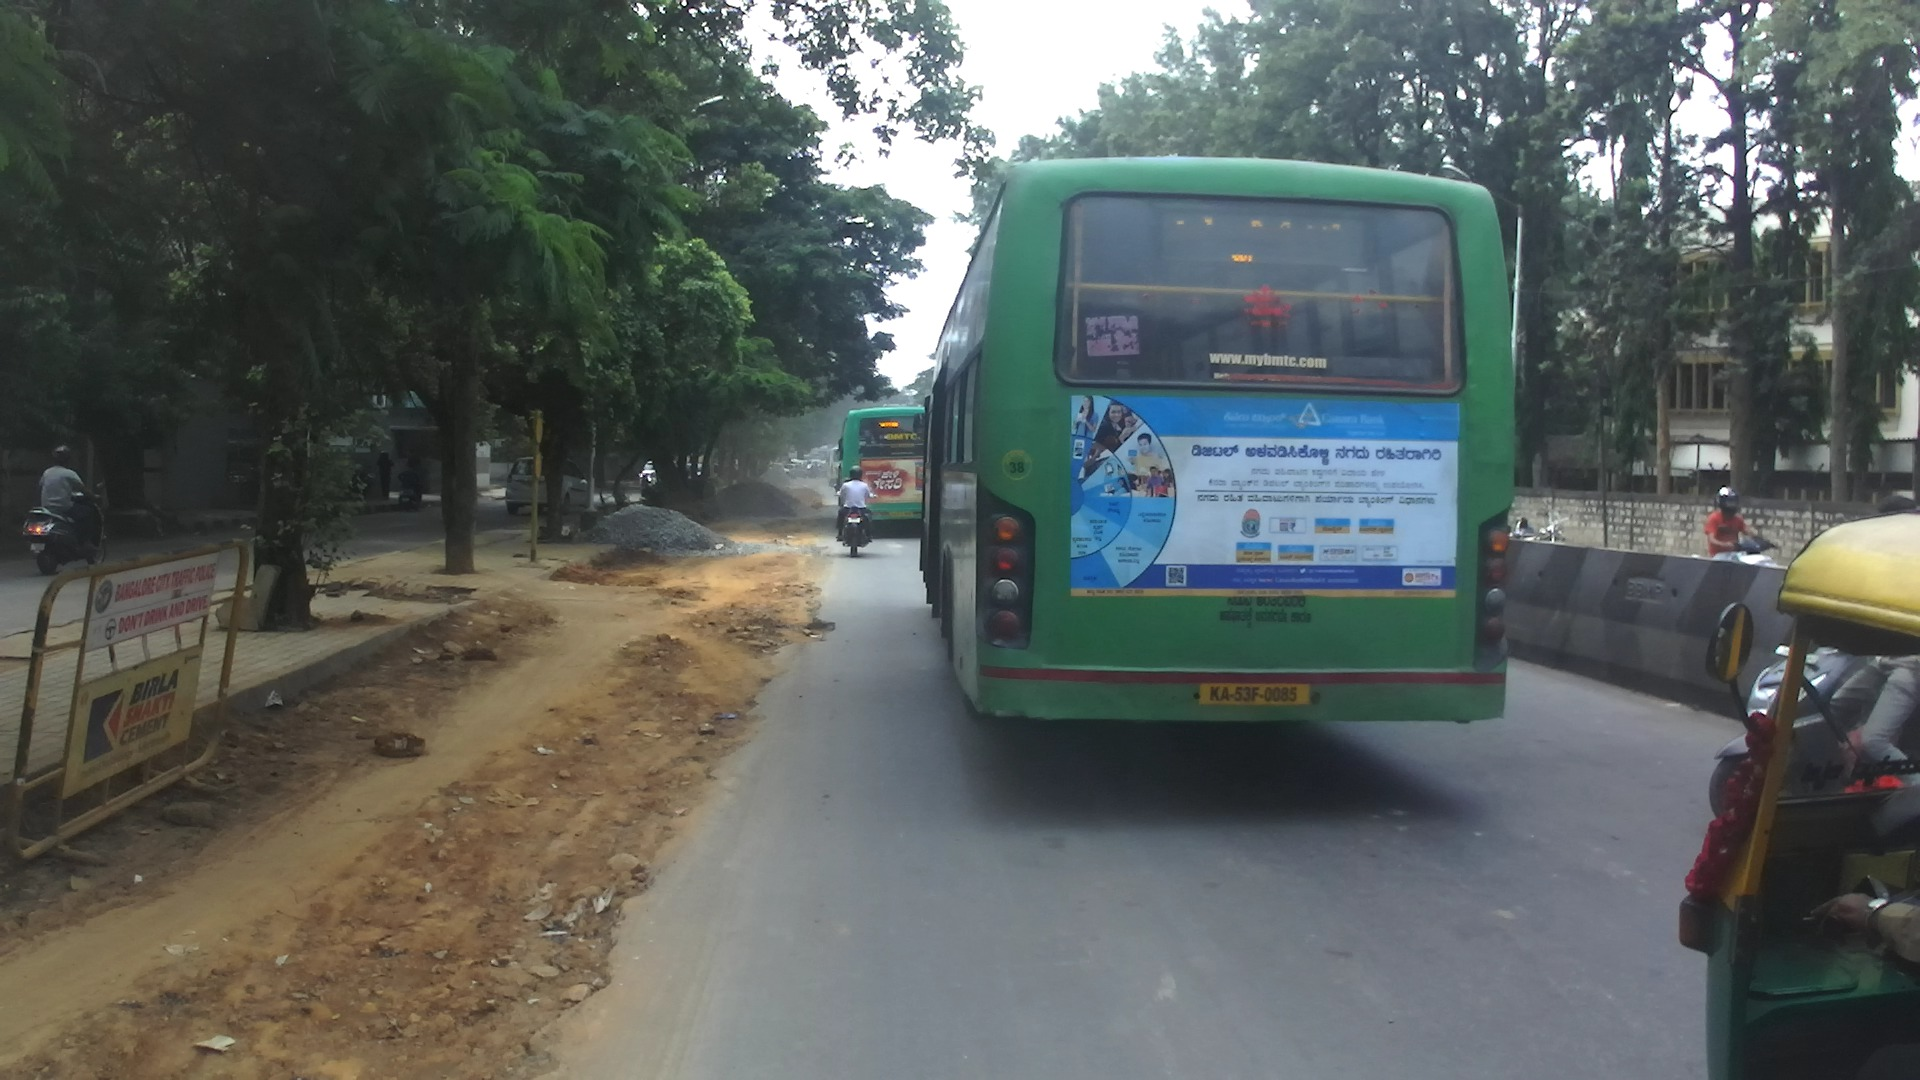autorickshaw: (1677, 505, 1920, 1080)
bus: (923, 156, 1517, 733), (839, 404, 930, 523), (826, 445, 841, 484)
car: (505, 454, 593, 516), (638, 457, 684, 502), (683, 463, 709, 483), (785, 463, 806, 479), (768, 462, 789, 477), (784, 463, 805, 477)
motorcycle: (23, 481, 105, 576), (833, 482, 877, 558), (1720, 523, 1782, 567), (1507, 516, 1564, 551), (345, 466, 378, 498), (399, 479, 421, 513)
person: (376, 450, 394, 500)
rider: (39, 445, 99, 553), (1703, 484, 1763, 563), (836, 464, 878, 544), (398, 462, 419, 498)
vehicle fallback: (809, 447, 827, 463), (807, 459, 826, 475), (792, 460, 807, 474), (809, 461, 819, 477), (803, 454, 811, 461)
